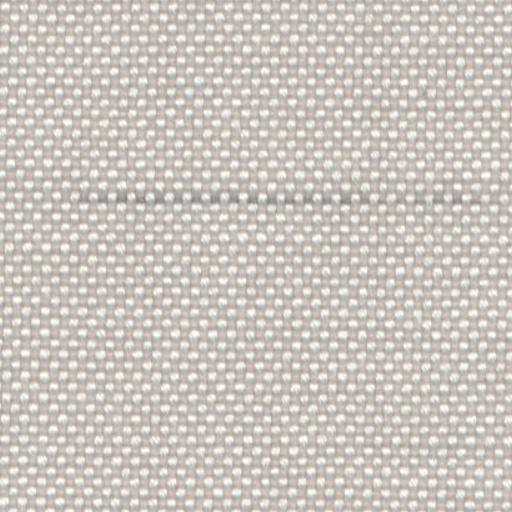WuZi: (72, 176, 448, 214)
